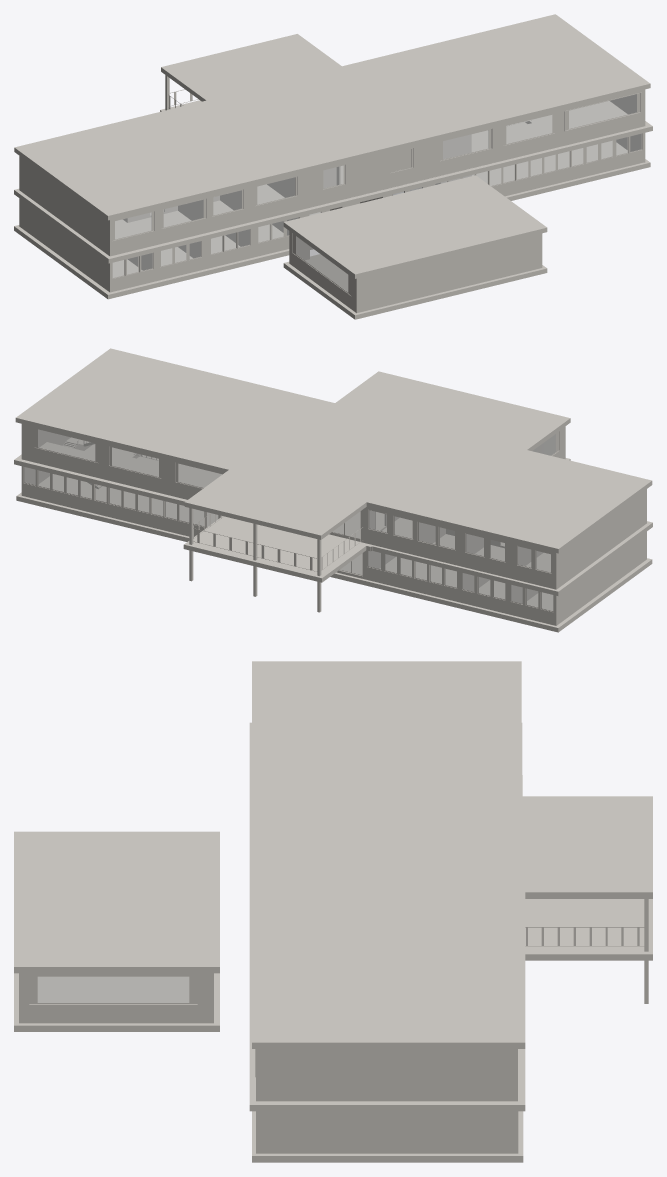
The model's file is washroom_gents_walk.glb.
3 views of the same model, one above another, from view 1: azimuth 30°, elevation 25°; view 2: azimuth 150°, elevation 25°; view 3: azimuth 270°, elevation 25° (orthographic). The views are drawn at different scales.
Visible parts, largest first — view 1: BEYOND_L2_SLAB, BEYOND_L0_WALL, BEYOND_L1_WALL, BEYOND_L0_SLAB, BEYOND_L1_SLAB, BEYOND_L1_GLASS, BEYOND_L0_GLASS, UPPER_in_zone, BEYOND_L1_FRAME, BEYOND_L0_FRAME, BEYOND_L1_OTHER, BEYOND_L0_OTHER; view 2: BEYOND_L2_SLAB, BEYOND_L1_WALL, BEYOND_L1_SLAB, BEYOND_L0_WALL, BEYOND_L0_SLAB, BEYOND_L1_GLASS, BEYOND_L0_GLASS, BEYOND_L1_FRAME, BEYOND_L0_FRAME, UPPER_in_zone, BEYOND_L1_OTHER, BEYOND_L1_STAIR (+3 smaller); view 3: BEYOND_L2_SLAB, BEYOND_L0_WALL, BEYOND_L1_WALL, BEYOND_L1_SLAB, BEYOND_L0_SLAB, BEYOND_L0_GLASS, UPPER_in_zone, BEYOND_L0_FRAME.
Part boxes in pixels (x1,y1,x2,y2): BEYOND_L2_SLAB: [14, 14, 650, 278]; BEYOND_L0_WALL: [19, 133, 645, 313]; BEYOND_L1_WALL: [19, 89, 645, 256]; BEYOND_L0_SLAB: [14, 122, 650, 319]; BEYOND_L1_SLAB: [14, 100, 652, 263]; BEYOND_L1_GLASS: [115, 94, 636, 238]; BEYOND_L0_GLASS: [113, 134, 641, 291]; UPPER_in_zone: [359, 114, 432, 188]; BEYOND_L1_FRAME: [113, 93, 640, 240]; BEYOND_L0_FRAME: [112, 134, 642, 295]; BEYOND_L1_OTHER: [112, 89, 641, 240]; BEYOND_L0_OTHER: [124, 133, 642, 295]; BEYOND_L2_SLAB: [15, 348, 652, 553]; BEYOND_L1_WALL: [21, 424, 646, 589]; BEYOND_L1_SLAB: [14, 442, 652, 596]; BEYOND_L0_WALL: [21, 426, 646, 625]; BEYOND_L0_SLAB: [16, 444, 652, 632]; BEYOND_L1_GLASS: [38, 429, 550, 572]; BEYOND_L0_GLASS: [24, 434, 555, 610]; BEYOND_L1_FRAME: [34, 428, 551, 573]; BEYOND_L0_FRAME: [23, 431, 558, 611]; UPPER_in_zone: [297, 402, 370, 433]; BEYOND_L1_OTHER: [34, 428, 551, 573]; BEYOND_L1_STAIR: [136, 454, 500, 570]; BEYOND_L2_SLAB: [14, 661, 652, 1048]; BEYOND_L0_WALL: [19, 973, 518, 1153]; BEYOND_L1_WALL: [256, 1049, 517, 1101]; BEYOND_L1_SLAB: [249, 722, 652, 1111]; BEYOND_L0_SLAB: [14, 775, 523, 1162]; BEYOND_L0_GLASS: [38, 977, 188, 1002]; UPPER_in_zone: [256, 858, 336, 890]; BEYOND_L0_FRAME: [29, 976, 197, 1003].
Bounding box in the file's own units: 38.22 × 5.6 × 27.
11 materials, 8 textured.
